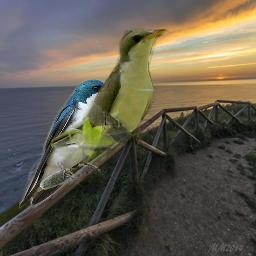Cuckoo: (51, 25, 170, 165)
Swallow: (19, 79, 115, 209)
